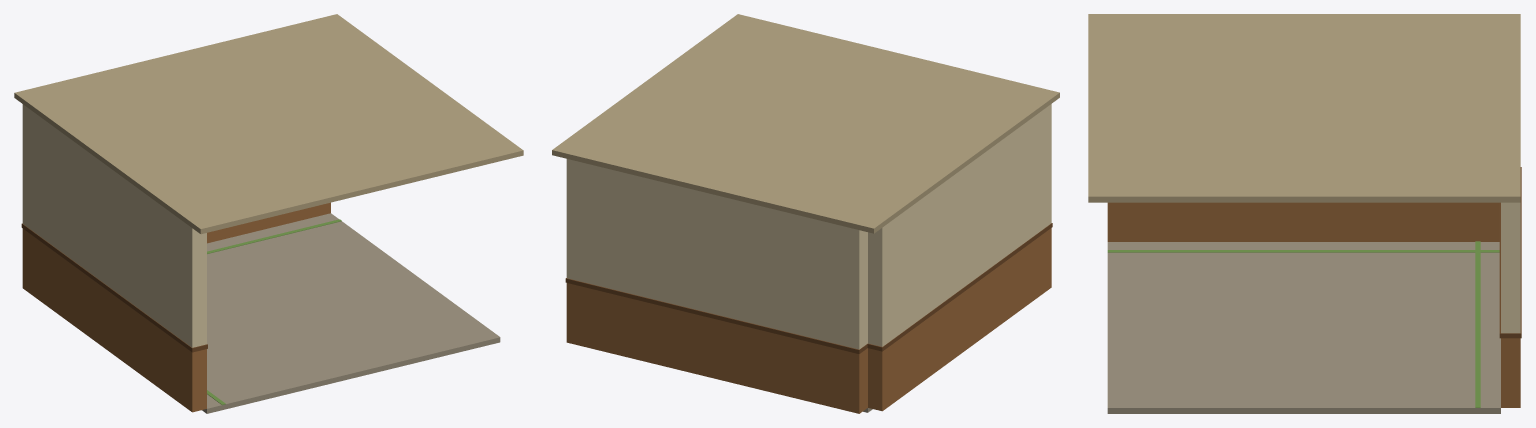
The model's file is room_shared_main_corner.glb.
The picture shows the model from 3 angles, left to right: view 1: azimuth 30°, elevation 25°; view 2: azimuth 150°, elevation 25°; view 3: azimuth 270°, elevation 25°; orthographic projection. The views are drawn at different scales.
Visible parts, largest first — view 1: room_shared_main_corner; view 2: room_shared_main_corner; view 3: room_shared_main_corner.
Boxes of the visible parts, x1=… form: room_shared_main_corner: x1=14, y1=14, x2=523, y2=413; room_shared_main_corner: x1=552, y1=14, x2=1059, y2=413; room_shared_main_corner: x1=1088, y1=14, x2=1521, y2=413.
Size of the model in its own units: 6.61 by 3.8 by 6.62.
1 material, 1 textured.
